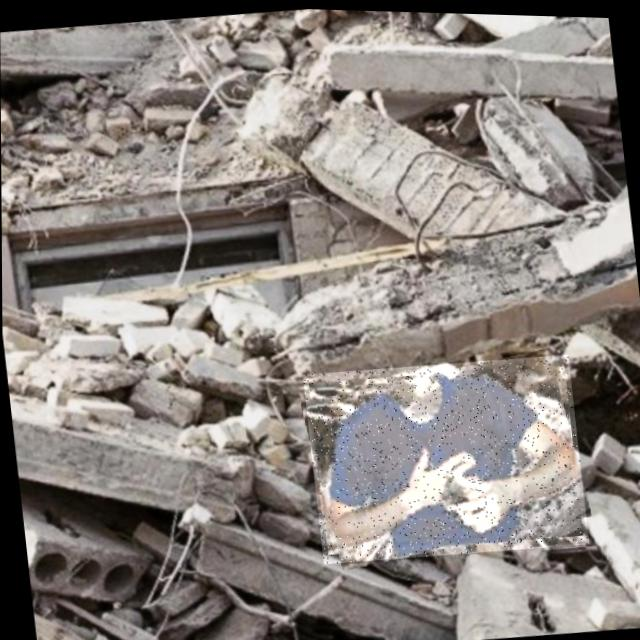Person in Rubble: (302, 344, 588, 568)
